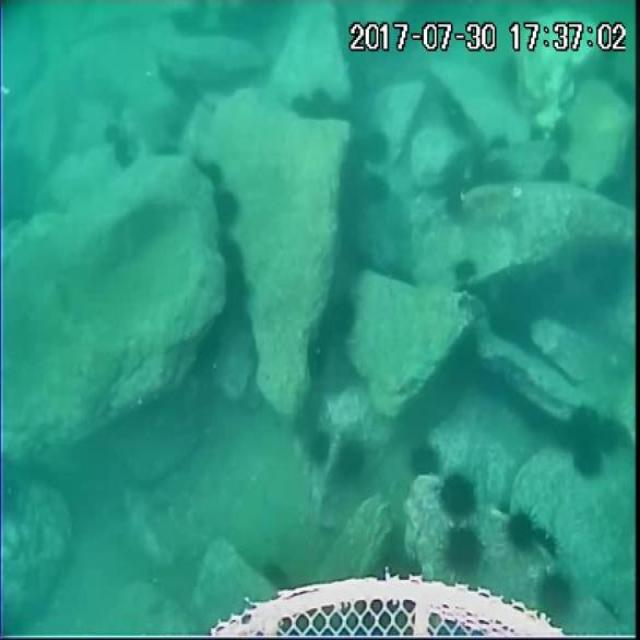echinus: (437, 524, 487, 581), (434, 468, 480, 525), (530, 564, 576, 621), (571, 434, 613, 482), (502, 505, 540, 556), (321, 286, 358, 338), (584, 267, 625, 312), (298, 422, 336, 469), (474, 359, 510, 405), (570, 407, 607, 449), (408, 440, 443, 484), (256, 557, 294, 596), (572, 244, 608, 285), (355, 126, 391, 166), (596, 170, 632, 210), (518, 391, 552, 433), (338, 436, 369, 481), (378, 255, 420, 288), (210, 235, 246, 272), (221, 272, 249, 319), (609, 71, 639, 112), (480, 157, 516, 191), (209, 187, 238, 229), (598, 413, 626, 456), (441, 94, 471, 134), (603, 236, 633, 276), (548, 116, 574, 160), (436, 179, 469, 213), (193, 155, 227, 188), (538, 156, 572, 188), (498, 53, 523, 95), (306, 338, 332, 378), (361, 172, 390, 207), (290, 91, 316, 124), (451, 256, 477, 287), (115, 136, 138, 169), (100, 120, 126, 149), (312, 89, 336, 119), (487, 132, 512, 155)
